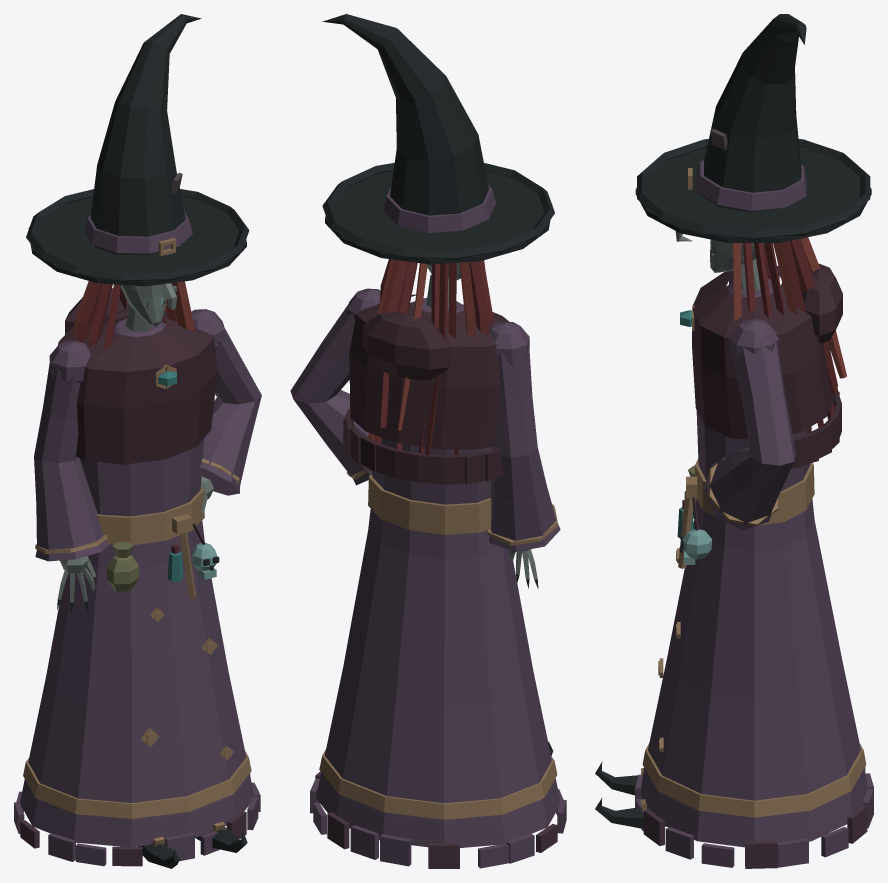
The model's file is vrajitoare_sefa.glb.
3 renders of one model, left to right at view 1: azimuth 30°, elevation 25°; view 2: azimuth 150°, elevation 25°; view 3: azimuth 270°, elevation 25°, orthographic. The views are drawn at different scales.
Parts seen in each view (by area): view 1: Corp, Cap, BratDrept; view 2: Corp, Cap, BratDrept; view 3: Corp, Cap.
Boxes of the visible parts, bbox=[...] form: Corp: bbox=[14, 288, 261, 868]; Cap: bbox=[26, 14, 249, 348]; BratDrept: bbox=[34, 340, 109, 612]; Corp: bbox=[290, 288, 566, 868]; Cap: bbox=[322, 14, 554, 455]; BratDrept: bbox=[487, 321, 560, 588]; Corp: bbox=[595, 263, 873, 868]; Cap: bbox=[635, 14, 871, 433].
Size of the model in its own units: 0.7737 by 2.39 by 0.7327.
